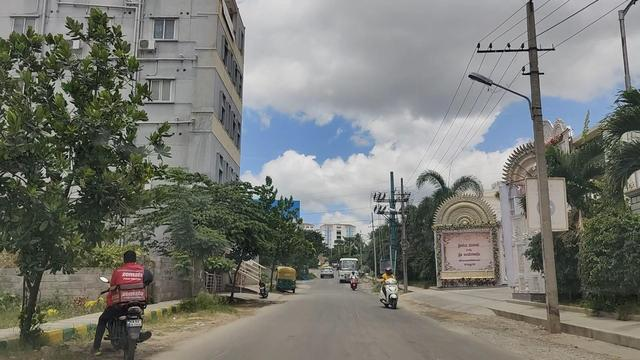LMV: (93, 249, 155, 360)
RoadDamages: (456, 328, 568, 360)
